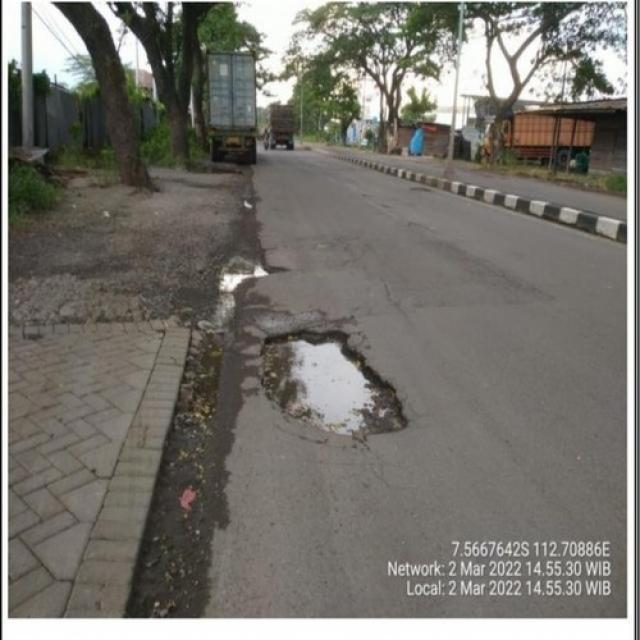Lubang: (262, 322, 406, 441)
